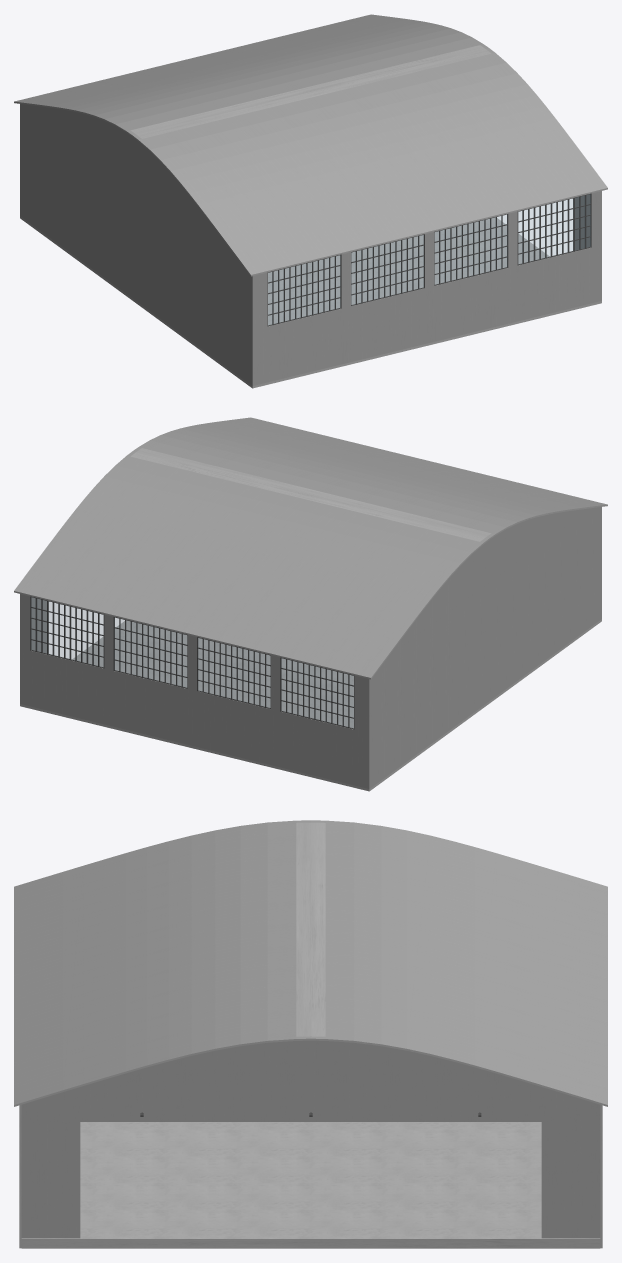
Rendered from gen_open_hangar09-27x23x8-cbj_LOD02.gltf.
The picture shows the model from 3 angles, top to bottom: view 1: azimuth 30°, elevation 25°; view 2: azimuth 150°, elevation 25°; view 3: azimuth 270°, elevation 25°; orthographic projection. The views are drawn at different scales.
Parts seen in each view (by area): view 1: Cube.004; view 2: Cube.004; view 3: Cube.004.
Boxes of the visible parts, x1,y1,x2,y2 form: Cube.004: [14, 14, 607, 388]; Cube.004: [14, 417, 607, 791]; Cube.004: [14, 820, 607, 1248].
Size of the model in its own units: 24.22 by 10.89 by 27.7.
